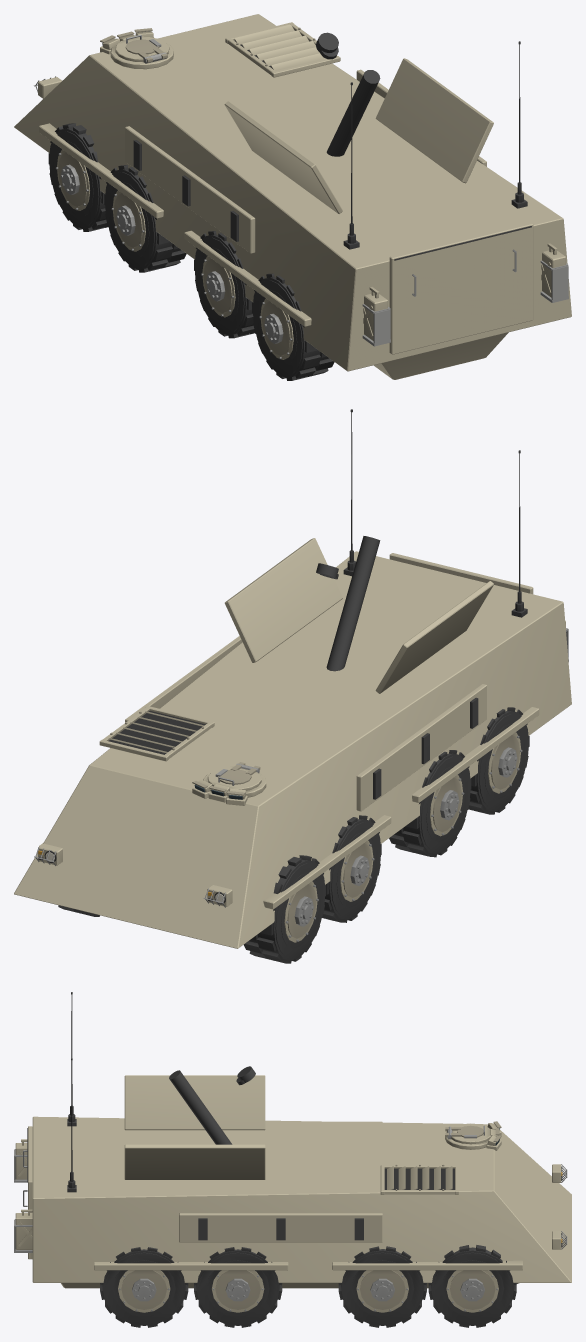
Rendered from usa_mor_1129.glb.
3 views of the same model, one above another, from view 1: azimuth 30°, elevation 25°; view 2: azimuth 150°, elevation 25°; view 3: azimuth 270°, elevation 25° (orthographic). The views are drawn at different scales.
Visible parts, largest first — view 1: body, door, wheel_2, wheel_6, wheel_0, wheel_4, barrel; view 2: body, wheel_0, wheel_4, wheel_6, wheel_2, barrel, door; view 3: body, wheel_1, wheel_3, wheel_5, wheel_7, barrel, door.
Boxes of the visible parts, x1,y1,x2,y2 form: body: (14,14,571,379); door: (389,222,533,354); wheel_2: (104,165,186,272); wheel_6: (252,273,334,380); wheel_0: (48,123,108,231); wheel_4: (194,231,254,338); barrel: (316,32,380,156); body: (14,409,571,948); wheel_0: (244,855,325,963); wheel_4: (389,750,471,857); wheel_6: (468,707,529,814); wheel_2: (322,815,381,922); barrel: (316,536,380,671); door: (389,553,533,594); body: (14,992,571,1288); wheel_1: (428,1245,516,1327); wheel_3: (338,1246,426,1327); wheel_5: (194,1247,282,1327); wheel_7: (100,1247,188,1327); barrel: (169,1066,255,1144); door: (23,1126,32,1259).
Size of the model in its own units: 2.88 by 3.65 by 7.13.
